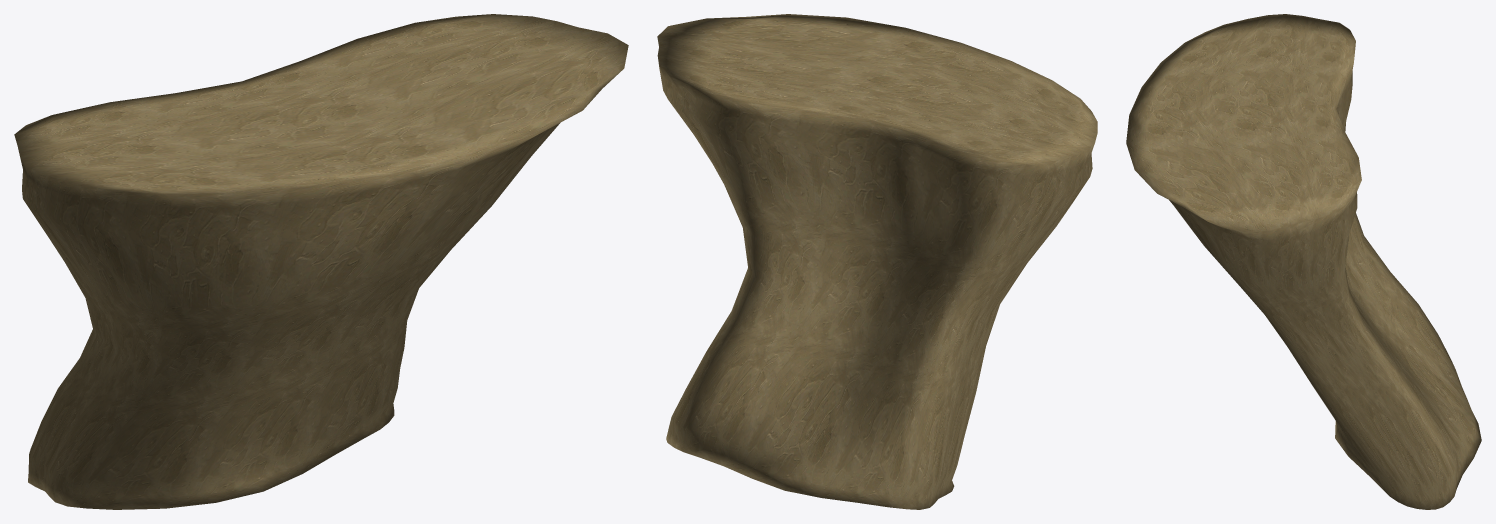
File: SB_PLATFORMB.fbx
3 views of the same model, side by side, from view 1: azimuth 30°, elevation 25°; view 2: azimuth 150°, elevation 25°; view 3: azimuth 270°, elevation 25° (orthographic). The views are drawn at different scales.
Visible parts, largest first — view 1: SB_PLATFORMB; view 2: SB_PLATFORMB; view 3: SB_PLATFORMB.
Boxes of the visible parts, left/top/right/bottom form: SB_PLATFORMB: left=14, top=14, right=628, bottom=509; SB_PLATFORMB: left=657, top=14, right=1097, bottom=509; SB_PLATFORMB: left=1126, top=14, right=1481, bottom=509.
Size of the model in its own units: 202070 by 140289 by 139298.
Materials: 1 (1 with a texture image).
